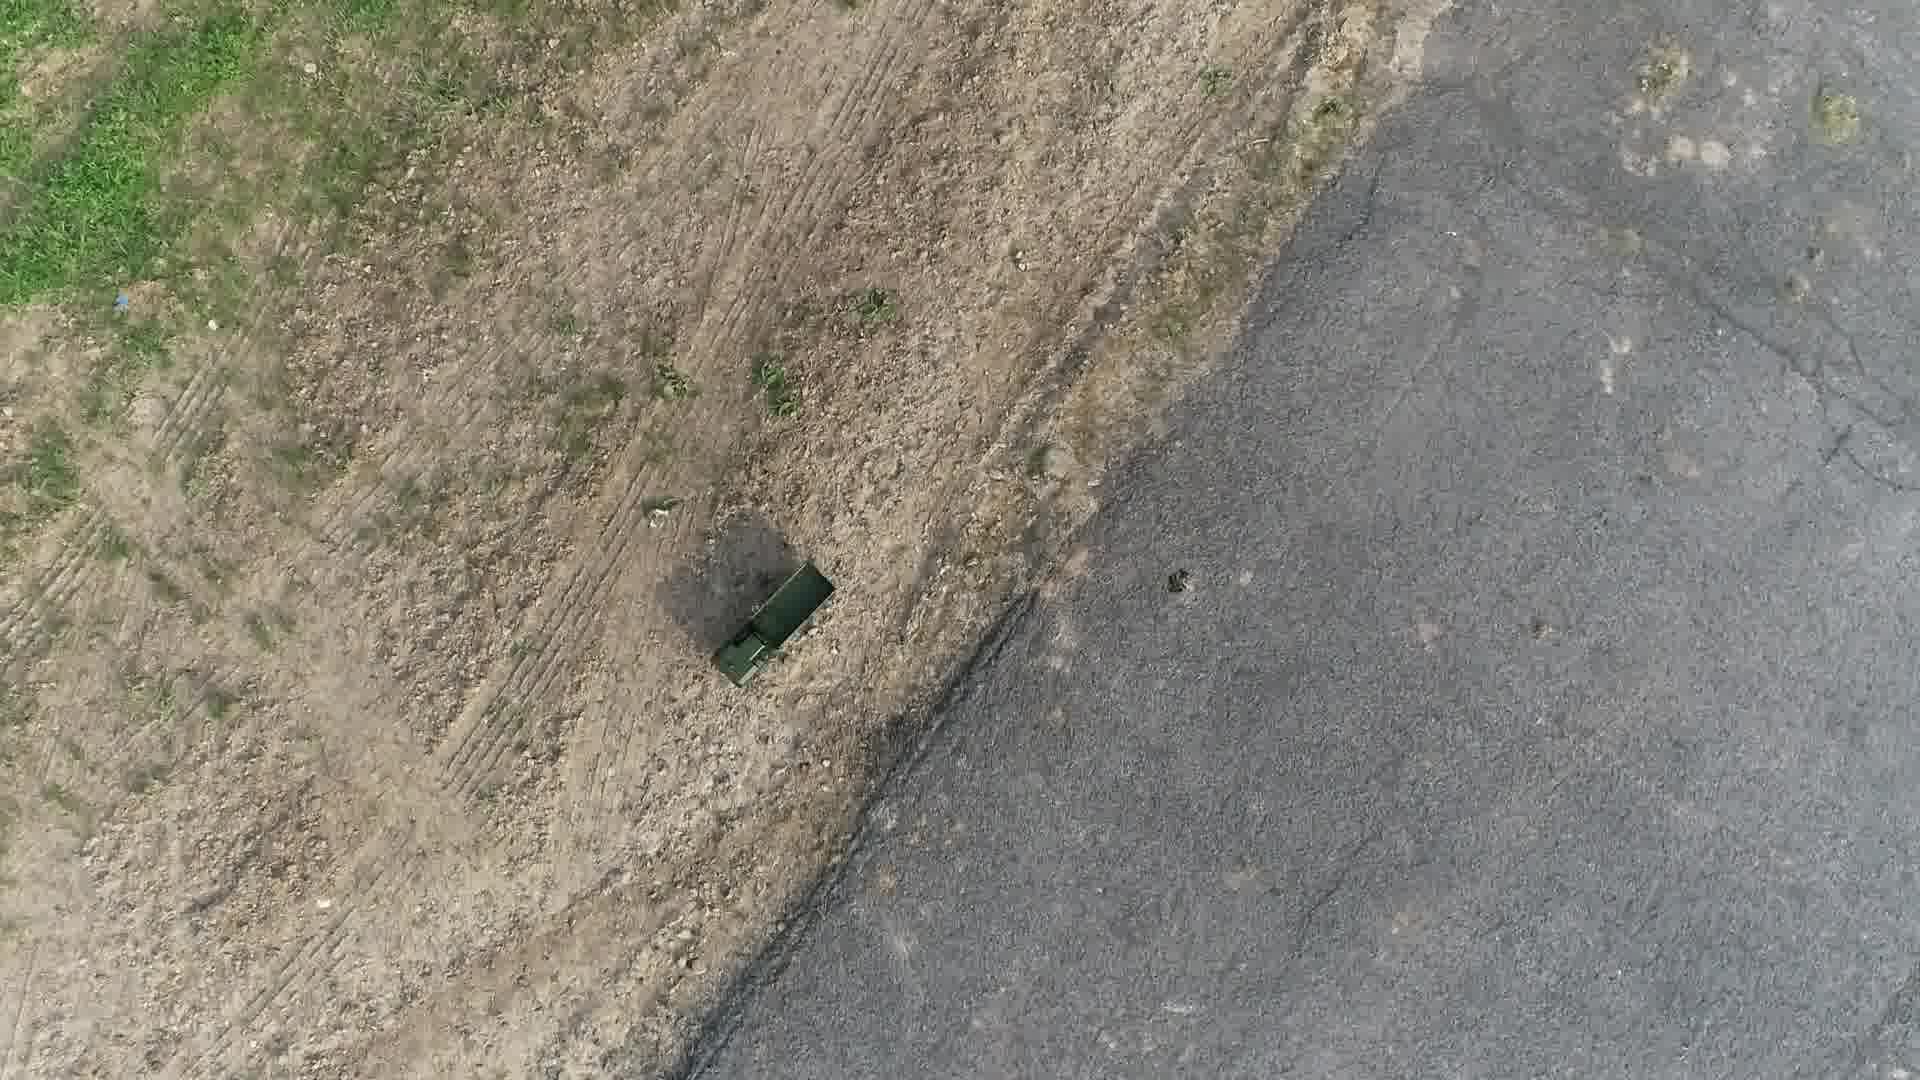transporter9: (705, 553, 841, 695)
